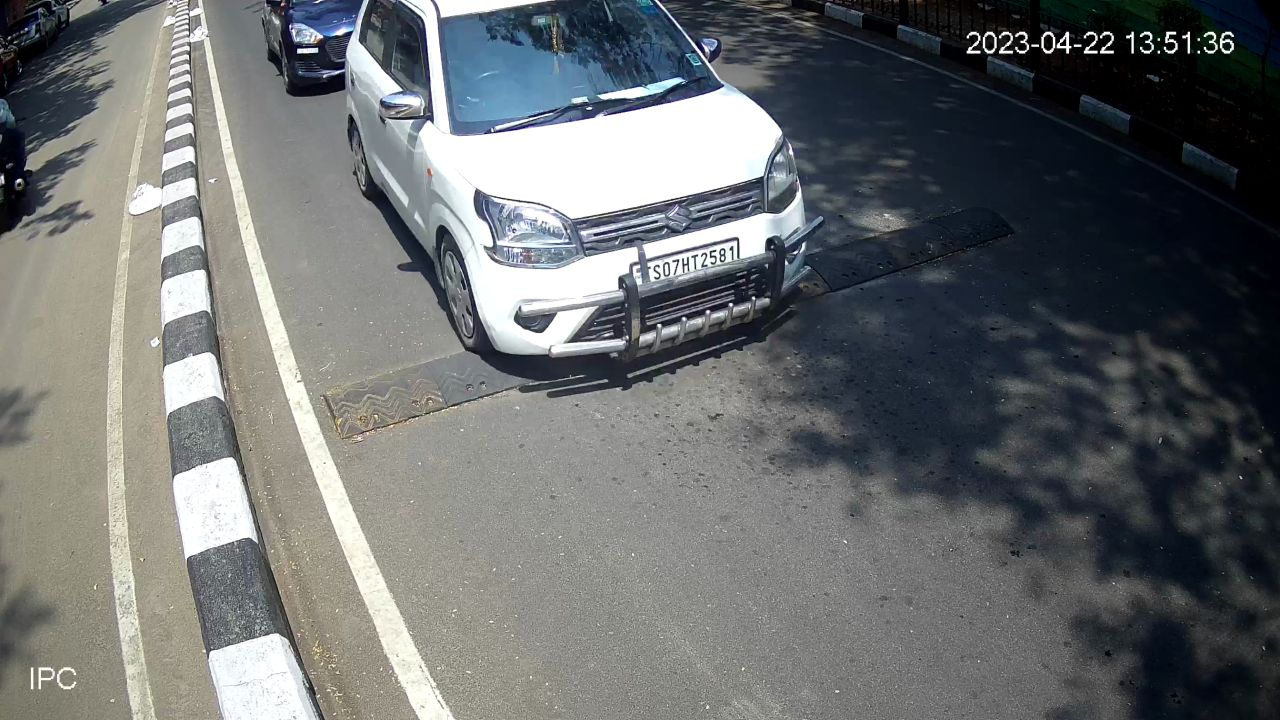license_plate: (630, 233, 742, 291)
